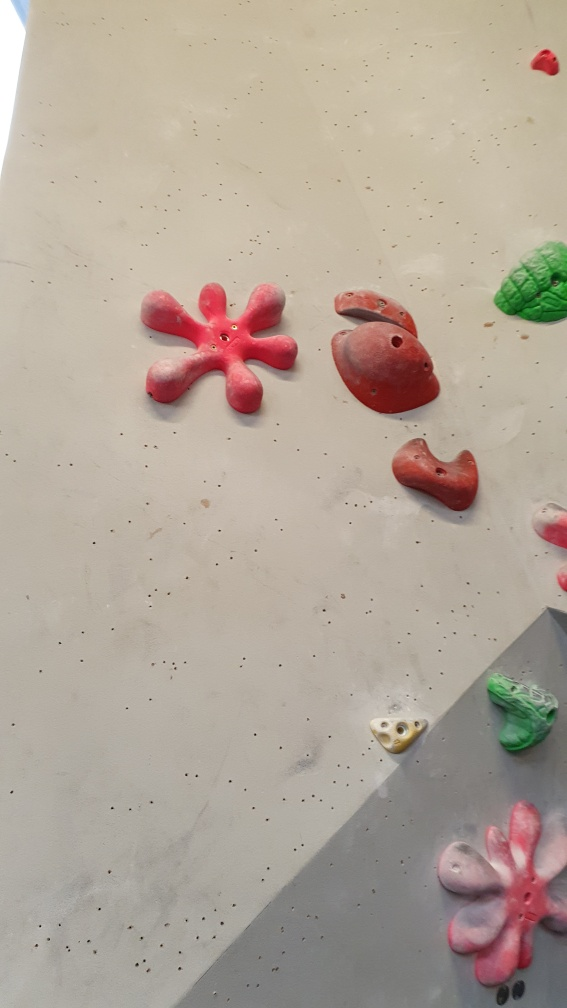Octopus Pinch: (441, 792, 567, 991), (134, 276, 301, 417)
